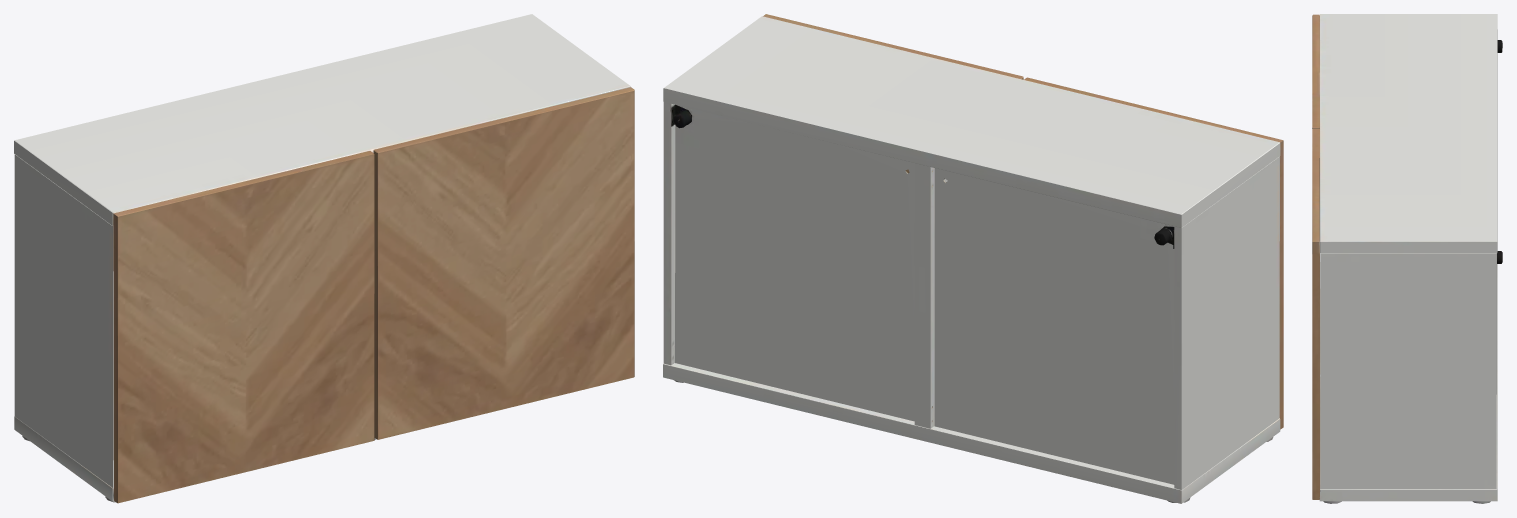
Rendered from 33 - BESTÅ - 層架組附門板, 白色Hedeviken 實木貼皮, 橡木 IKEA 線上購物.glb.
3 views of the same model, side by side, from view 1: azimuth 30°, elevation 25°; view 2: azimuth 150°, elevation 25°; view 3: azimuth 270°, elevation 25° (orthographic). The views are drawn at different scales.
Parts seen in each view (by area): view 1: Mesh_0; view 2: Mesh_0; view 3: Mesh_0.
Part boxes in pixels (x1,y1,x2,y2): Mesh_0: (14,14,634,503); Mesh_0: (663,14,1283,503); Mesh_0: (1312,14,1502,503).
Bounding box in the file's own units: 1.2 × 0.6483 × 0.4235.
1 material, 1 textured.
